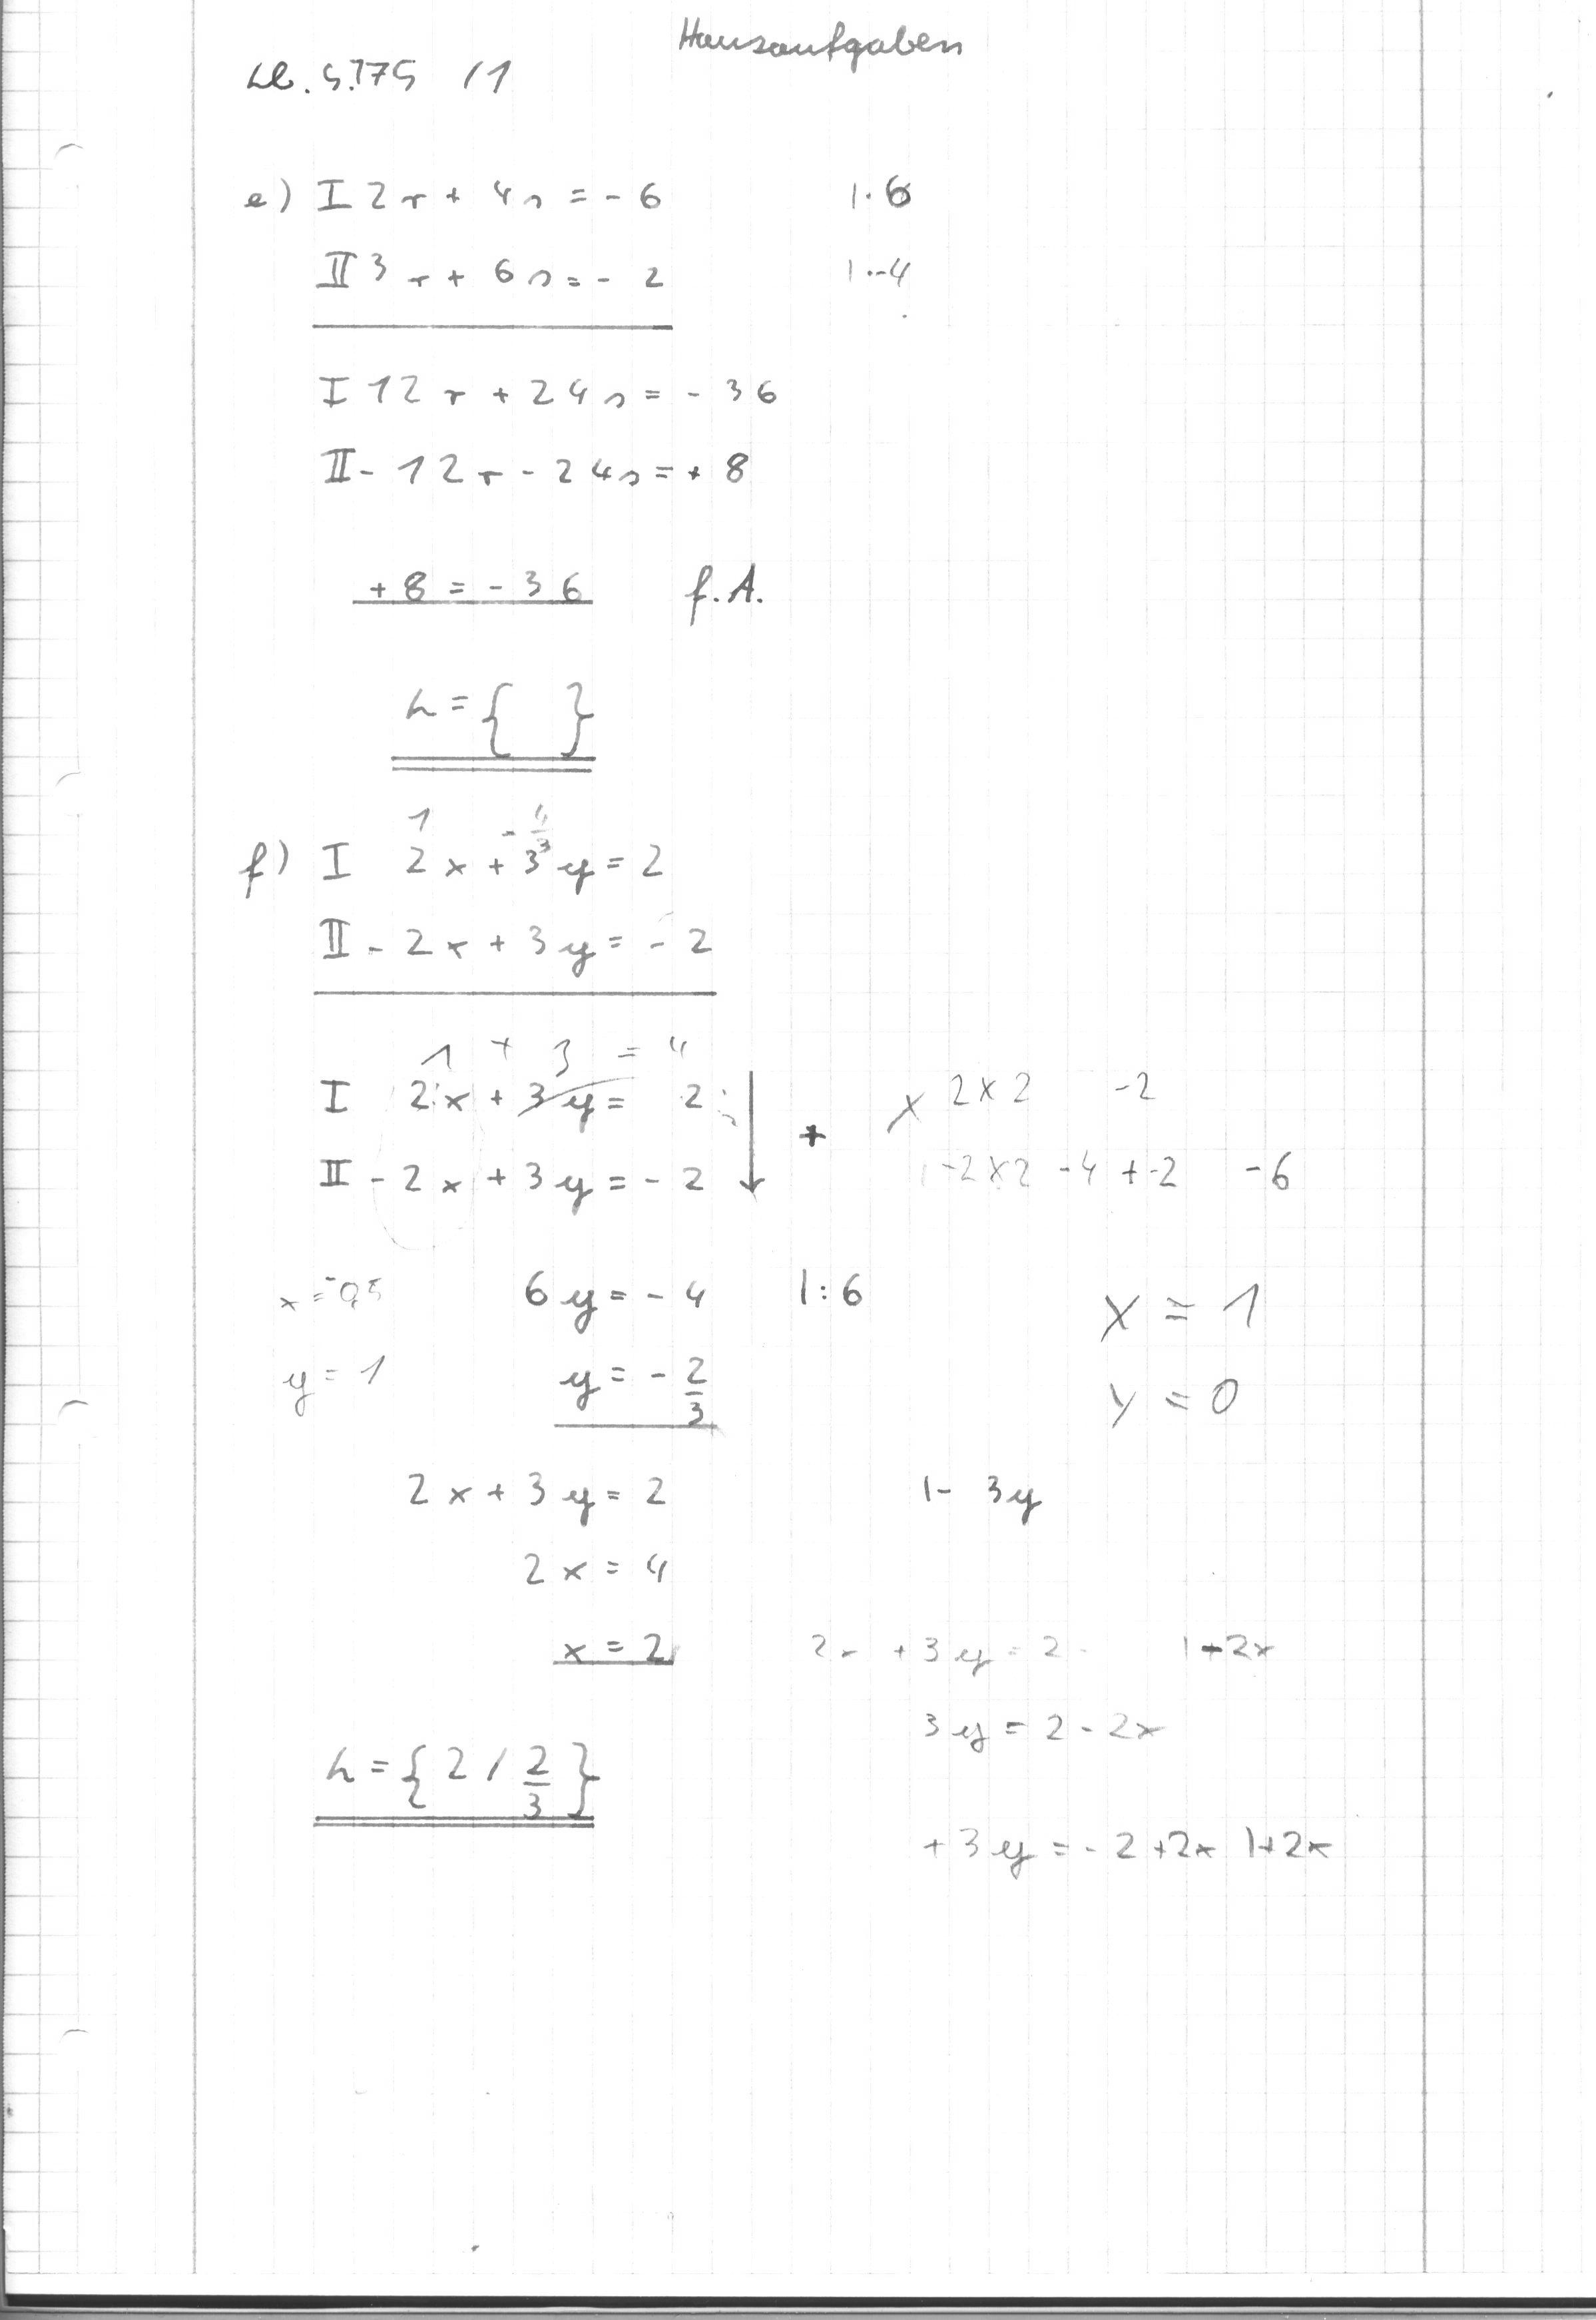word: (216, 158, 796, 507), (324, 537, 794, 795), (211, 810, 736, 1010), (287, 1051, 842, 1236), (377, 1447, 718, 1700), (508, 1247, 890, 1447), (250, 1687, 649, 1871), (217, 16, 572, 136), (892, 1434, 1107, 1566)
